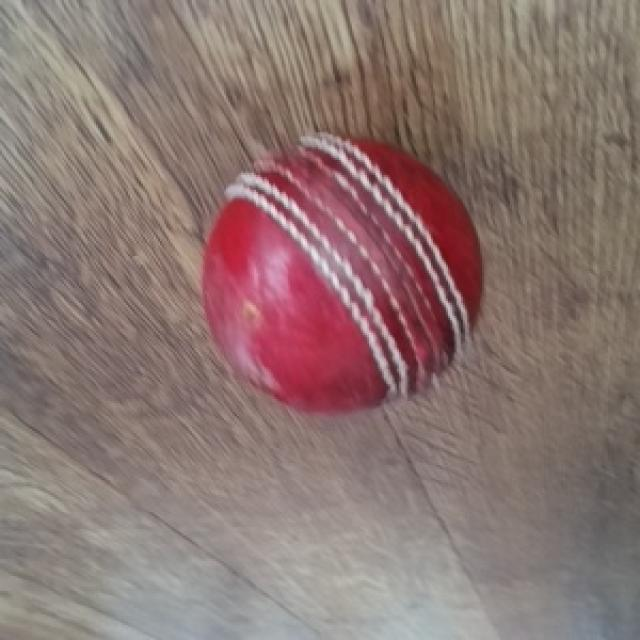ball: (198, 132, 486, 420)
